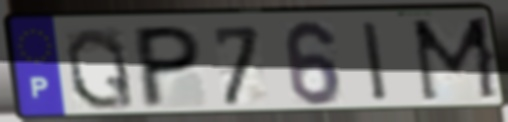6: (283, 18, 342, 109)
7: (212, 23, 263, 107)
I: (358, 18, 392, 105)
M: (408, 14, 503, 106)
P: (136, 24, 205, 112)
Q: (62, 25, 139, 113)
